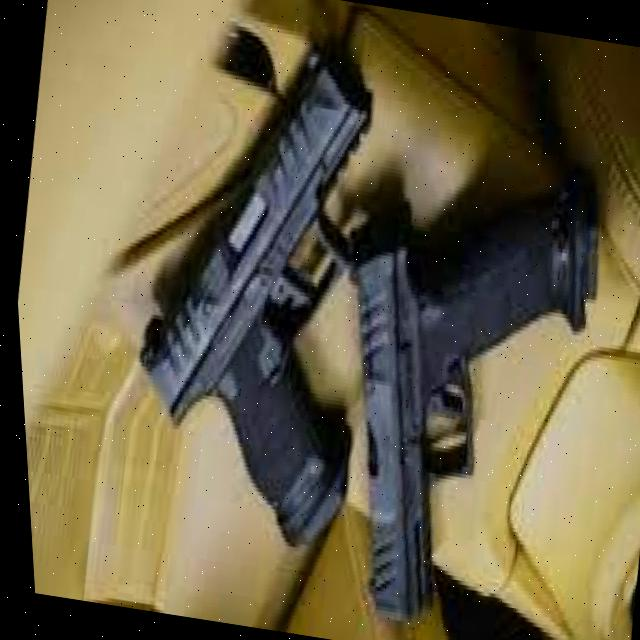gun: (139, 50, 375, 545), (353, 165, 598, 621)
